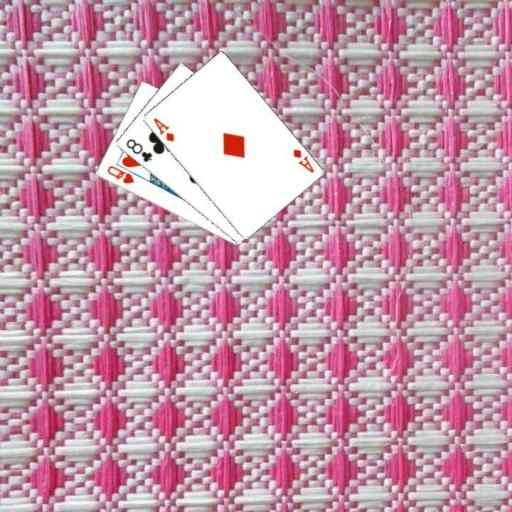8C: (122, 136, 154, 163)
AD: (150, 114, 176, 143), (289, 146, 315, 174)
QH: (104, 162, 135, 186)
